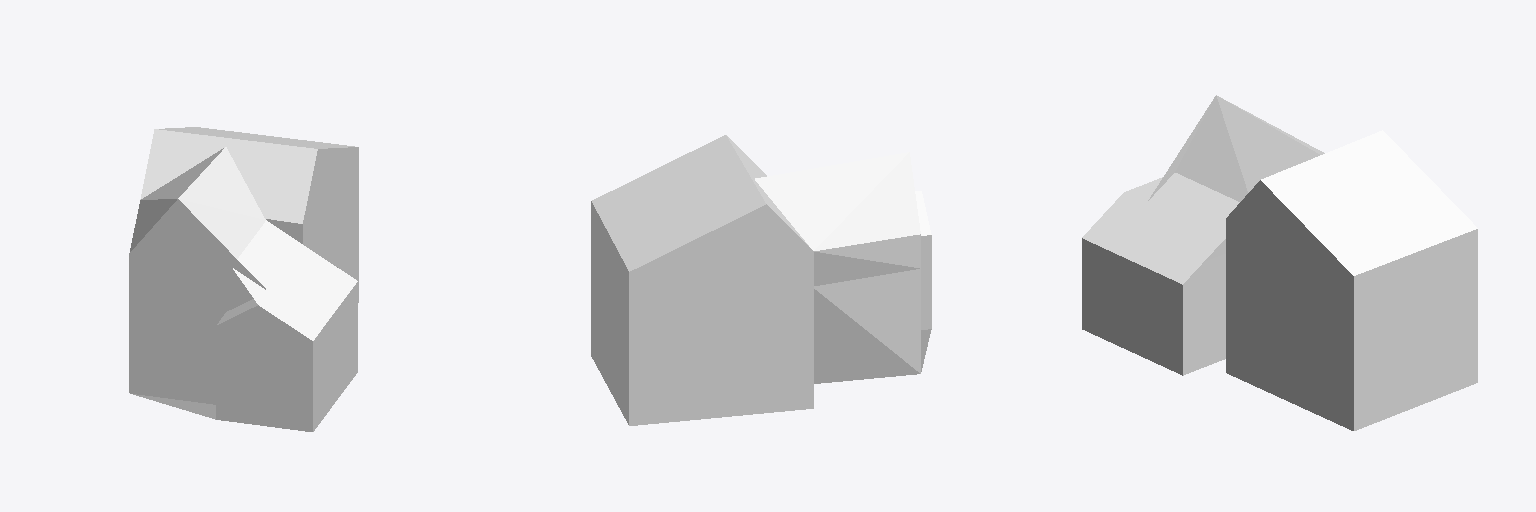
File: house_Shape 254.obj
3 renders of one model, left to right at view 1: azimuth 30°, elevation 25°; view 2: azimuth 150°, elevation 25°; view 3: azimuth 270°, elevation 25°, orthographic.
Visible parts, largest first — view 1: CityEngineMaterial_129, CityEngineMaterial_38, CityEngineMaterial_157, CityEngineMaterial_127; view 2: CityEngineMaterial_129, CityEngineMaterial_38, CityEngineMaterial_157; view 3: CityEngineMaterial_129, CityEngineMaterial_38, CityEngineMaterial_157.
Boxes of the visible parts, x1=… form: CityEngineMaterial_129: x1=129, y1=197, x2=358, y2=431; CityEngineMaterial_38: x1=130, y1=127, x2=357, y2=340; CityEngineMaterial_157: x1=129, y1=147, x2=358, y2=322; CityEngineMaterial_127: x1=133, y1=394, x2=215, y2=419; CityEngineMaterial_129: x1=591, y1=235, x2=931, y2=425; CityEngineMaterial_38: x1=592, y1=135, x2=931, y2=271; CityEngineMaterial_157: x1=591, y1=201, x2=920, y2=320; CityEngineMaterial_129: x1=1082, y1=238, x2=1477, y2=430; CityEngineMaterial_38: x1=1082, y1=95, x2=1477, y2=284; CityEngineMaterial_157: x1=1148, y1=97, x2=1477, y2=325.
Size of the model in its own units: 12.48 by 9.16 by 15.33.